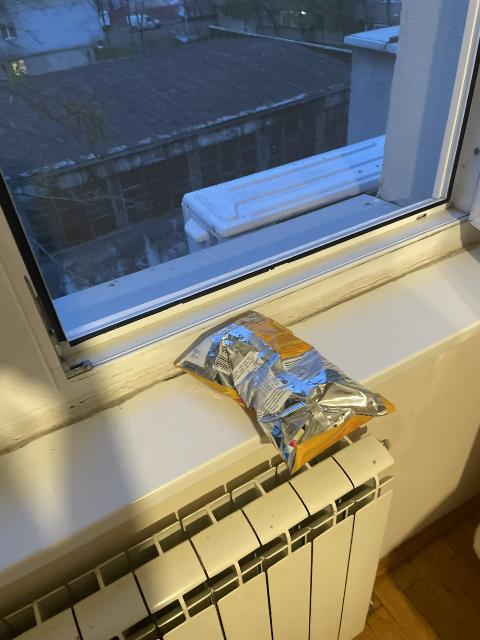Chio Cascaval 125g: (177, 313, 392, 469)
